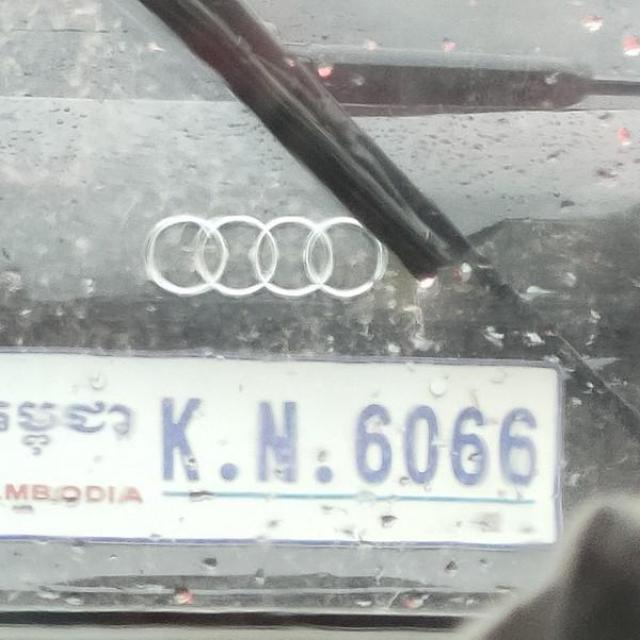Cambodia: (1, 398, 132, 457)
